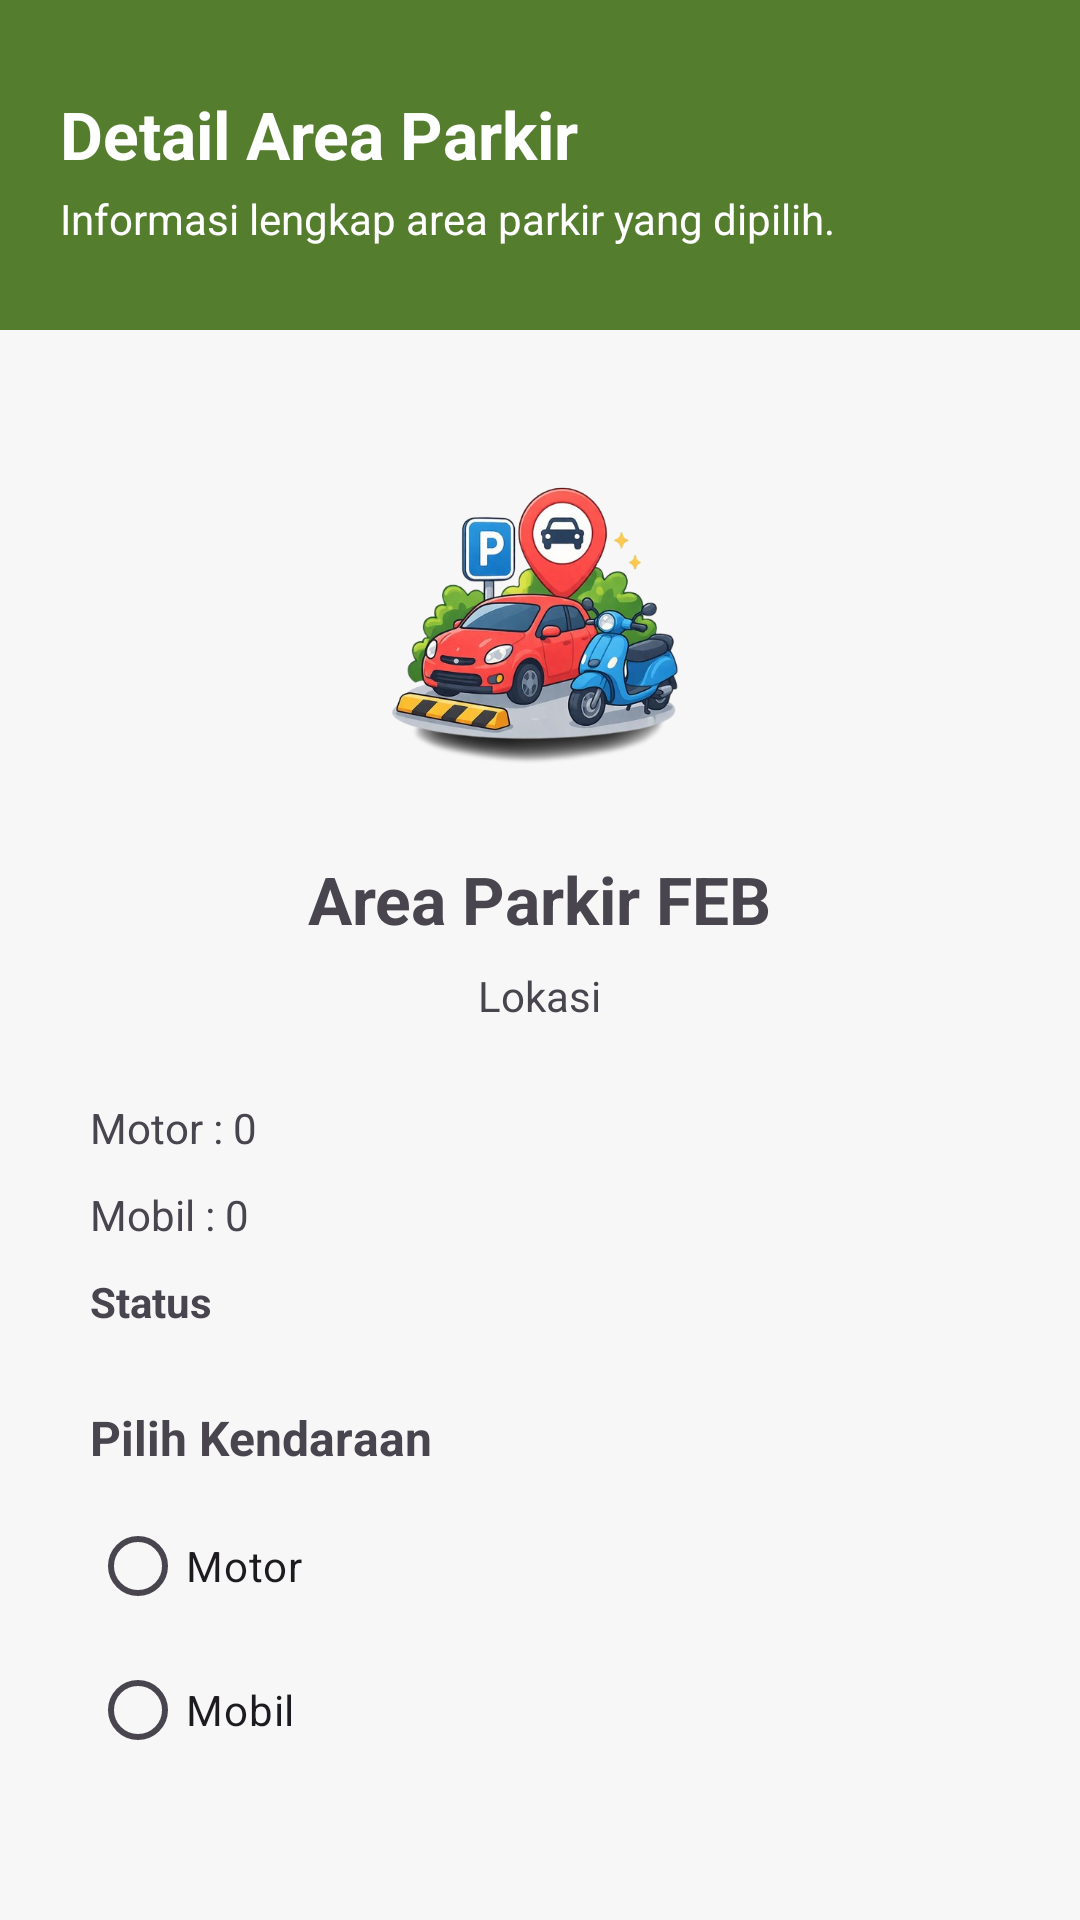

Icons on this 1080×1920 Android screen, each with the point to tap as point (x, y):
parking: point (535, 624)
